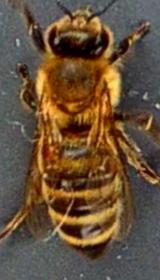varroa_mite: (34, 130, 73, 168)
